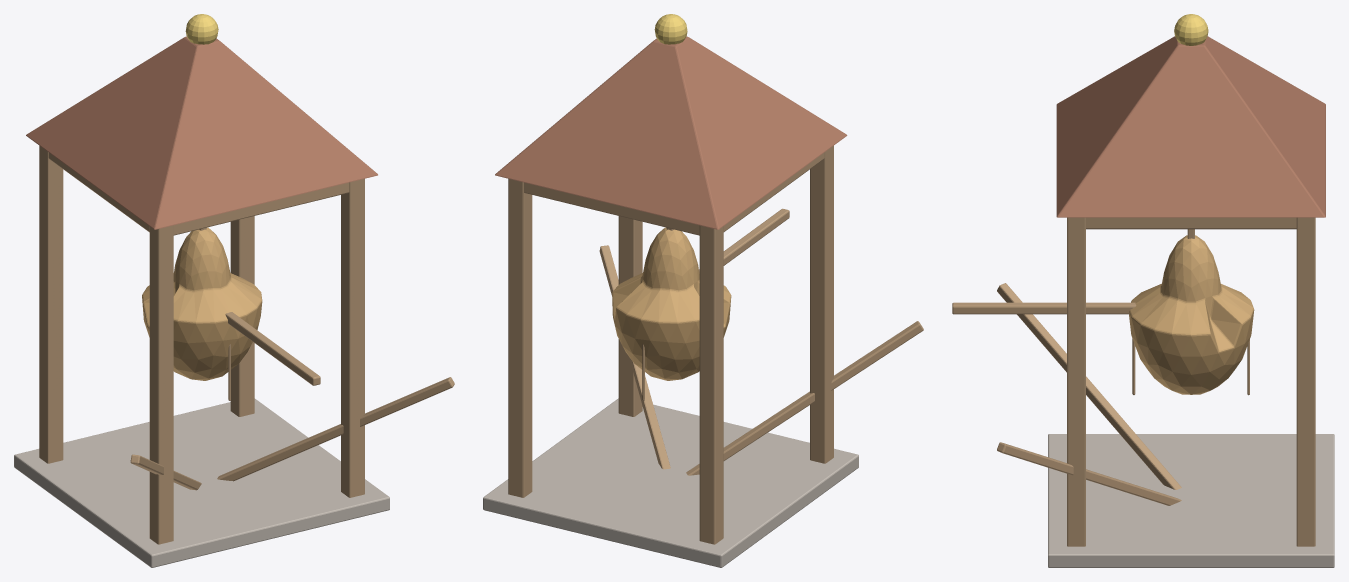
The model's file is bell_tower_v2.glb.
3 renders of one model, left to right at view 1: azimuth 30°, elevation 25°; view 2: azimuth 150°, elevation 25°; view 3: azimuth 270°, elevation 25°, orthographic. The views are drawn at different scales.
Parts seen in each view (by area): view 1: BellTower; view 2: BellTower; view 3: BellTower.
Part boxes in pixels (bbox=[...]): BellTower: bbox=[14, 14, 454, 567]; BellTower: bbox=[483, 14, 923, 567]; BellTower: bbox=[952, 14, 1334, 567].
Size of the model in its own units: 4.07 by 5.84 by 4.
